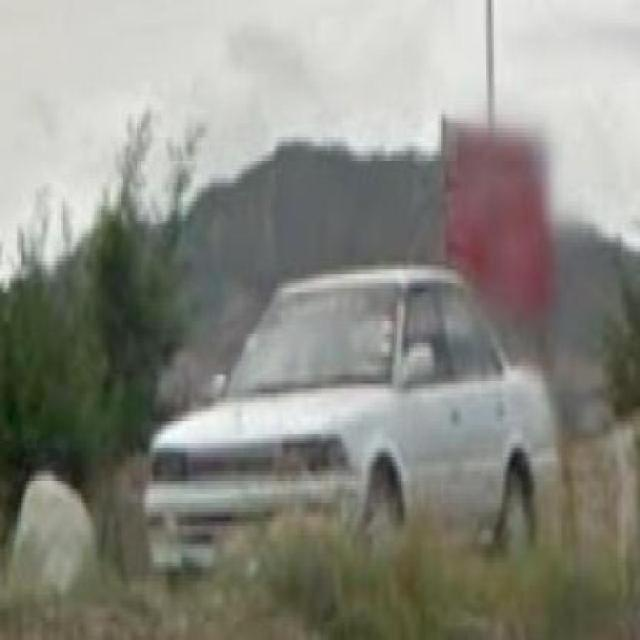car: (145, 251, 558, 571)
